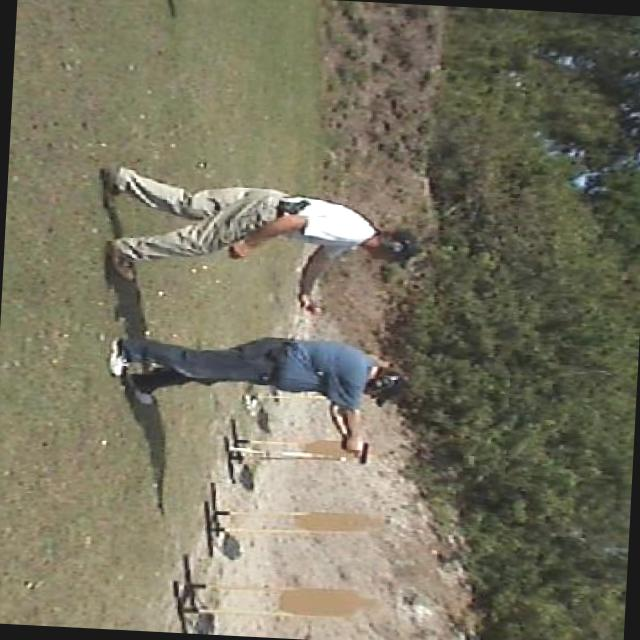handgun: (343, 436, 370, 464)
